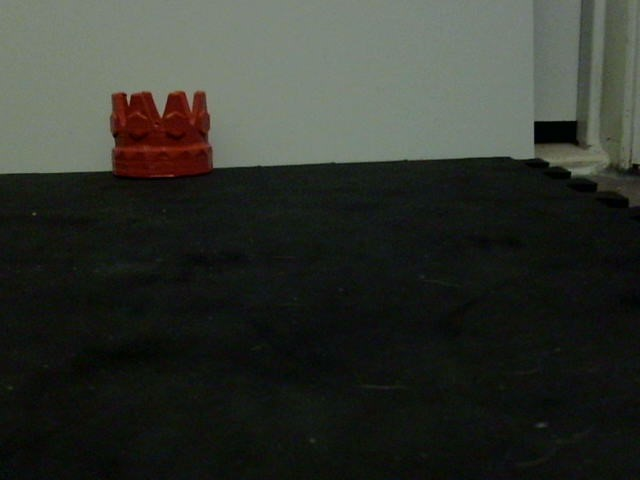crown: (108, 90, 215, 179)
